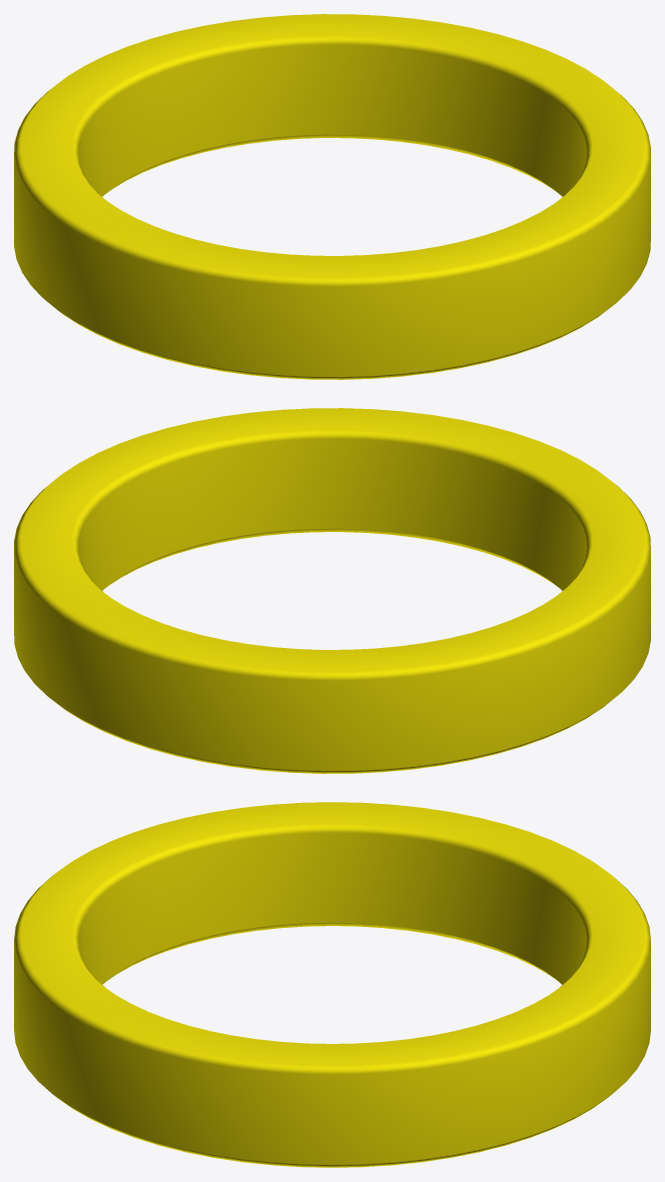
3 renders of one model, top to bottom at view 1: azimuth 30°, elevation 25°; view 2: azimuth 150°, elevation 25°; view 3: azimuth 270°, elevation 25°, orthographic.
Parts seen in each view (by area): view 1: seal_body; view 2: seal_body; view 3: seal_body.
Boxes of the visible parts, <box> form: seal_body: <box>14,14,650,379</box>; seal_body: <box>14,408,650,773</box>; seal_body: <box>14,802,650,1167</box>.
Bounding box in the file's own units: 0.0452 × 0.008 × 0.0452.
